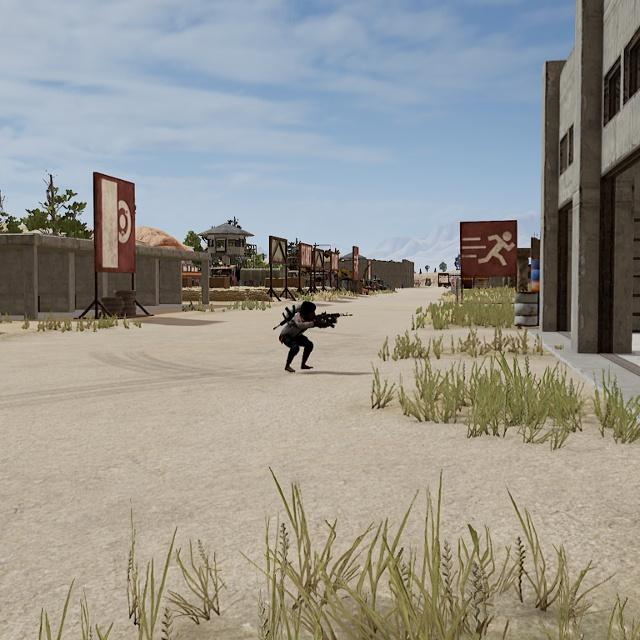head: (299, 301, 319, 319)
people: (278, 299, 321, 374)
